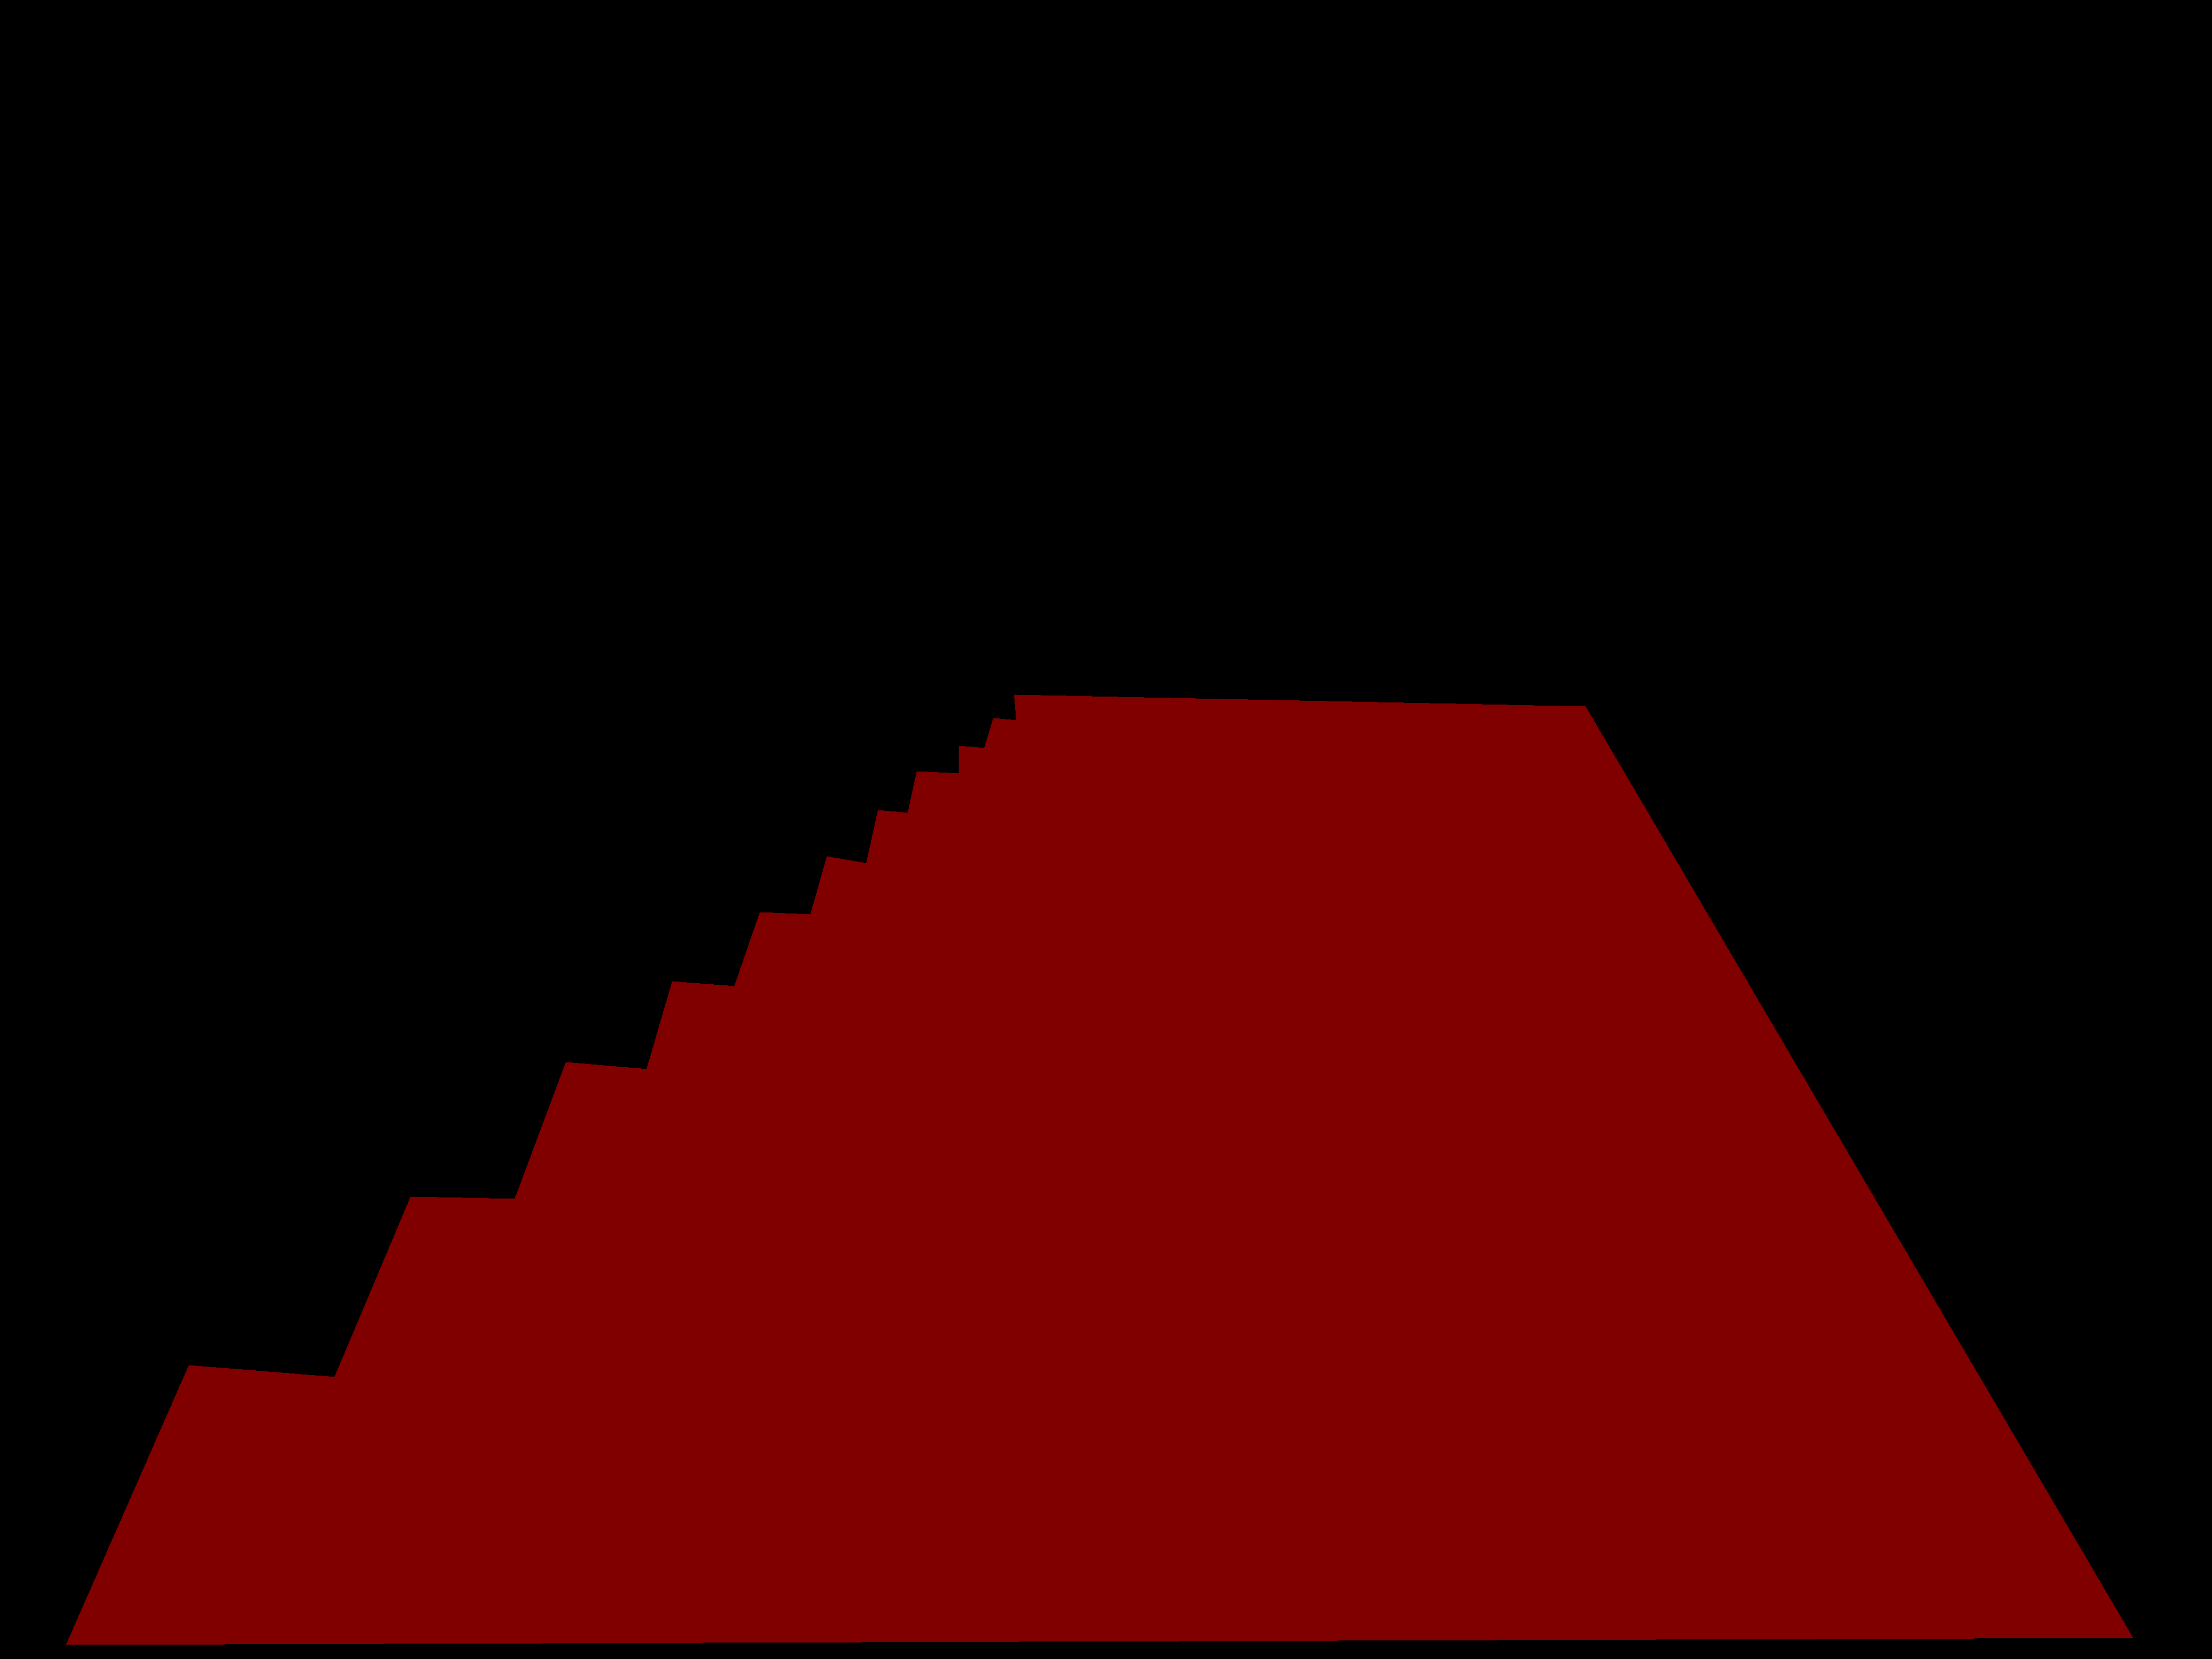stair: (66, 694, 2134, 1645)
